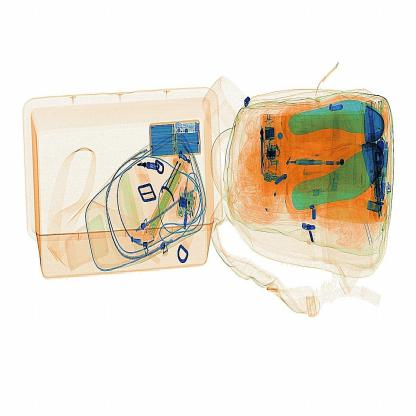knife: (249, 121, 274, 180)
